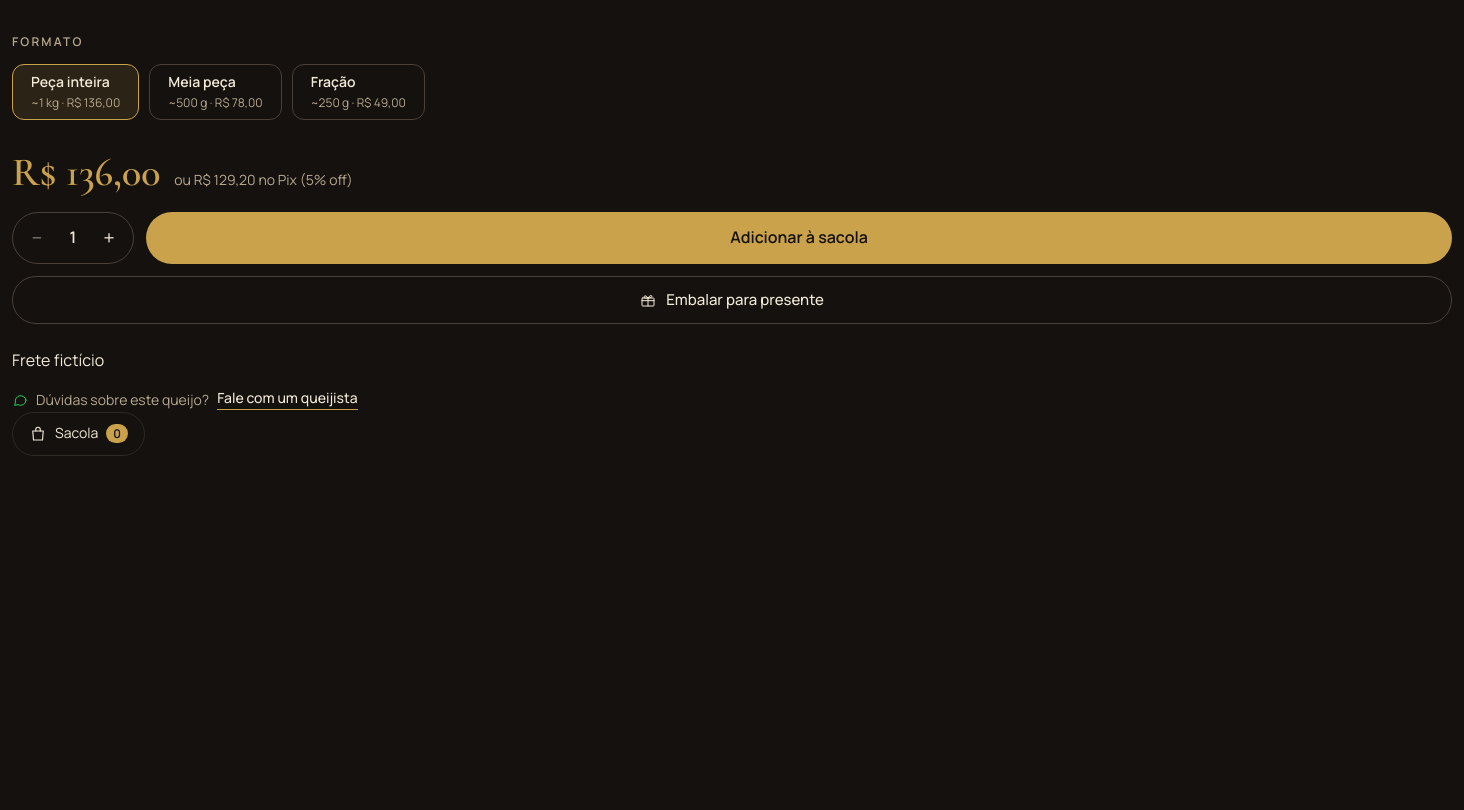
Test: PainelDeCompra › a nota do presente fica numa região role="status" montada desde o início (vazia sem presente)
Click the button "Embalar para presente": (732, 300) left=12, top=276, right=1452, bottom=324
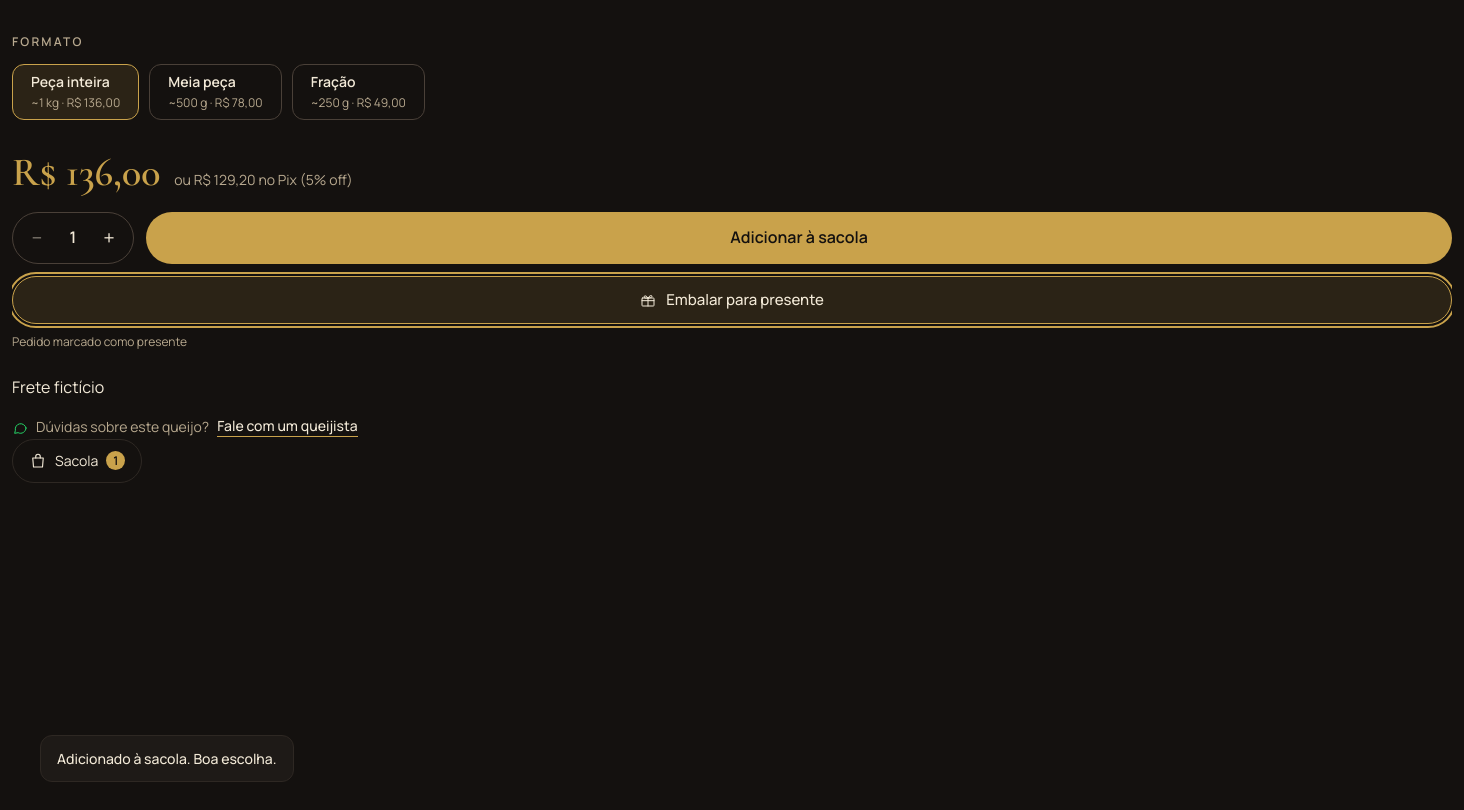
Expected: the message "Pedido marcado como presente" is shown, left=12, top=333, right=187, bottom=350
